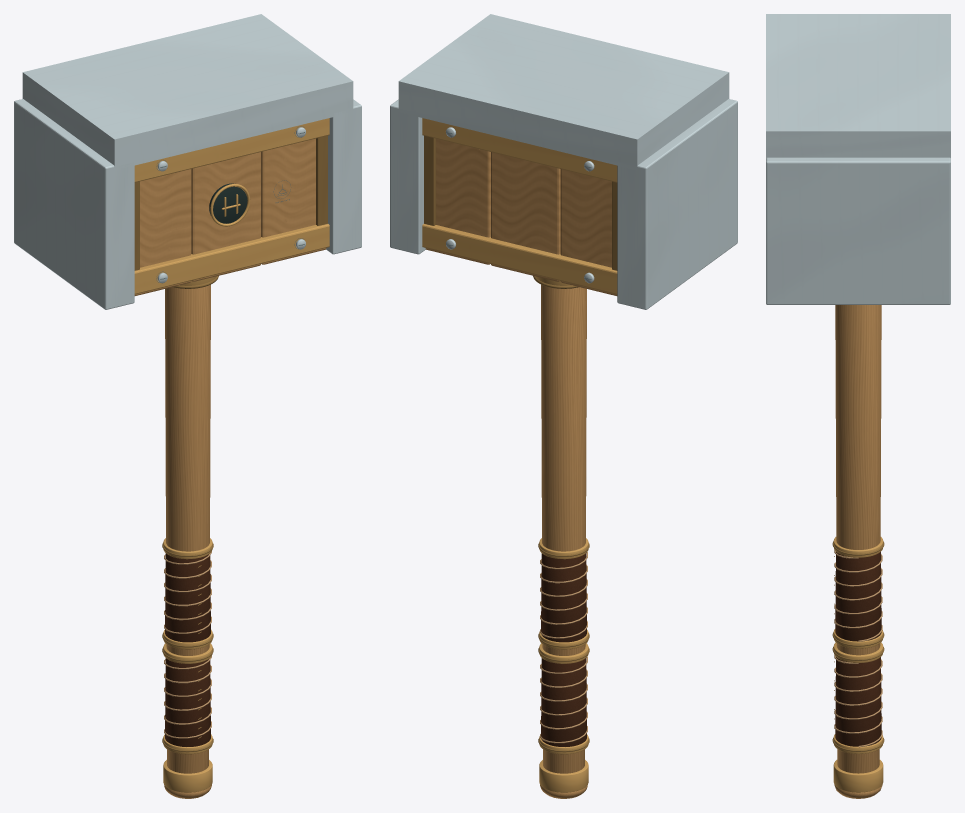
Rendered from maul.glb.
3 renders of one model, left to right at view 1: azimuth 30°, elevation 25°; view 2: azimuth 150°, elevation 25°; view 3: azimuth 270°, elevation 25°, orthographic.
Visible parts, largest first — view 1: Render_maul; view 2: Render_maul; view 3: Render_maul.
Boxes of the visible parts, x1=… form: Render_maul: x1=14, y1=14, x2=361, y2=798; Render_maul: x1=390, y1=14, x2=737, y2=798; Render_maul: x1=766, y1=14, x2=950, y2=798.
Bounding box in the file's own units: 0.565 × 1.51 × 0.35.
Materials: 10 (10 with a texture image).
